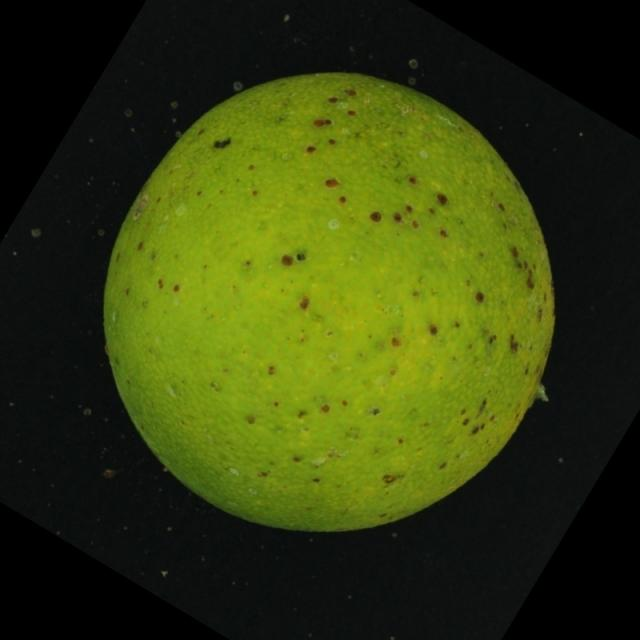grenning: (94, 64, 572, 552)
